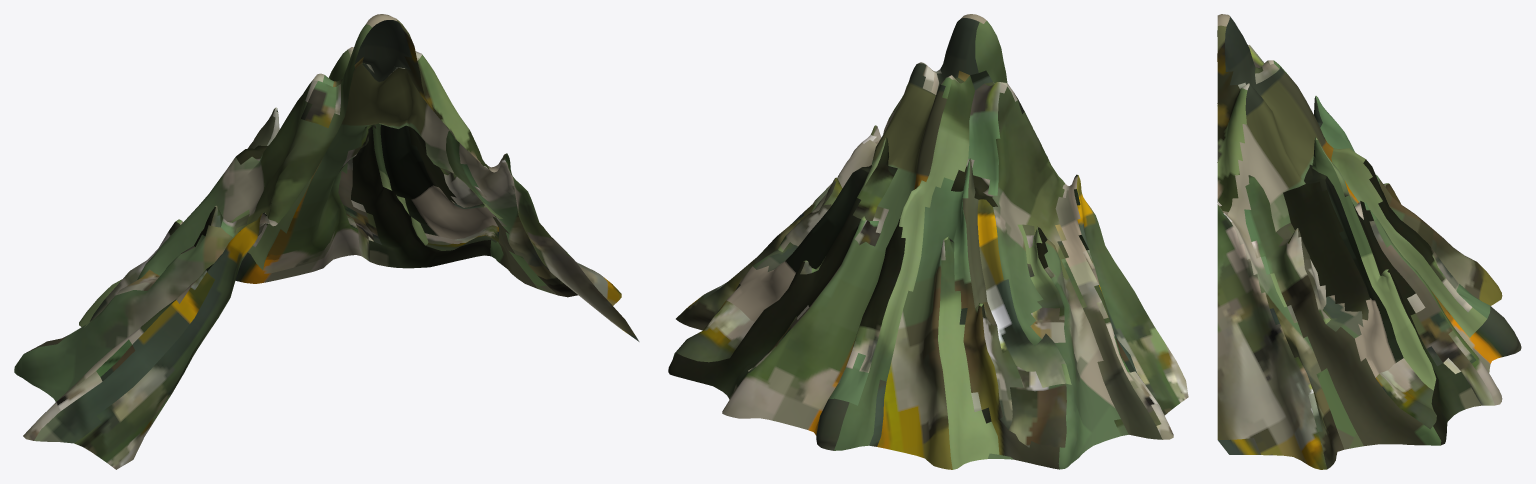
The model's file is LavaMount.fbx.
3 views of the same model, side by side, from view 1: azimuth 30°, elevation 25°; view 2: azimuth 150°, elevation 25°; view 3: azimuth 270°, elevation 25° (orthographic). The views are drawn at different scales.
Parts seen in each view (by area): view 1: LavaMount; view 2: LavaMount; view 3: LavaMount.
Part boxes in pixels (x1,y1,x2,y2): LavaMount: (14, 14, 639, 469); LavaMount: (668, 14, 1188, 469); LavaMount: (1217, 14, 1521, 469).
Size of the model in its own units: 80.46 by 50.76 by 42.16.
